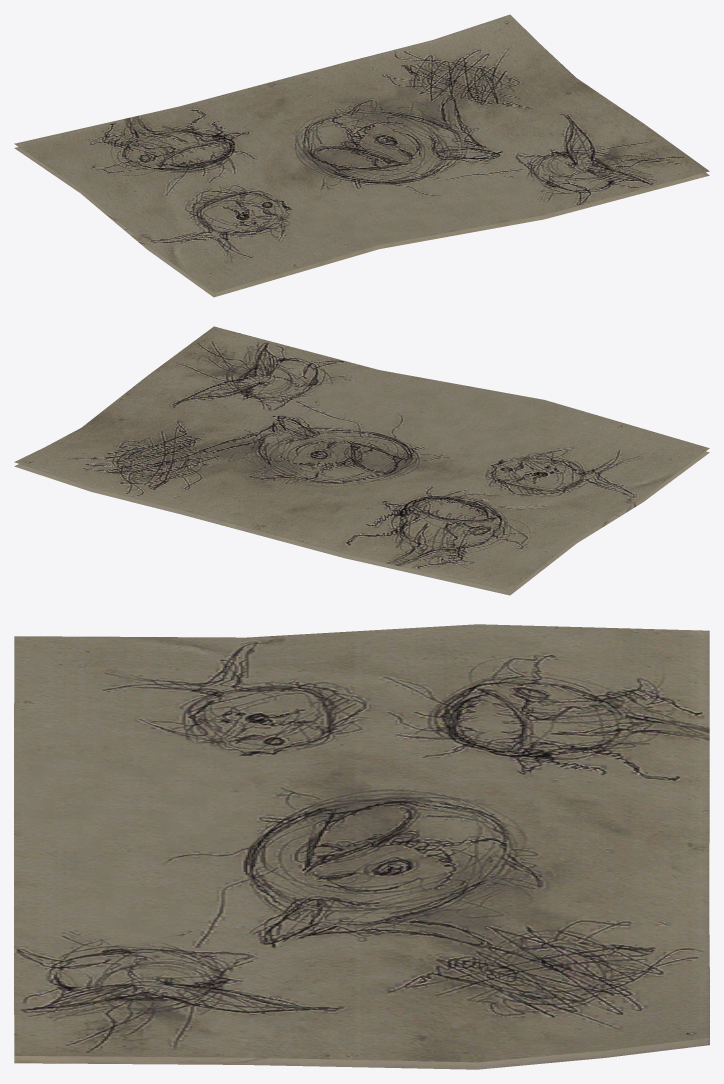
Rendered from 01_01_sketches_amy_01.dae.
3 renders of one model, top to bottom at view 1: azimuth 30°, elevation 25°; view 2: azimuth 150°, elevation 25°; view 3: azimuth 270°, elevation 25°, orthographic. The views are drawn at different scales.
Visible parts, largest first — view 1: sketch01; view 2: sketch01; view 3: sketch01.
Boxes of the visible parts, left/top/right/bottom form: sketch01: left=14, top=14, right=709, bottom=297; sketch01: left=14, top=326, right=709, bottom=595; sketch01: left=14, top=624, right=709, bottom=1069.
Bounding box in the file's own units: 0.2807 × 0.1958 × 0.0104.
